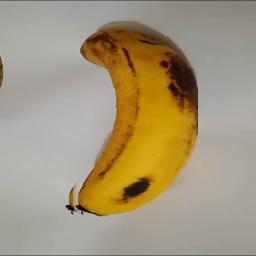Banana Semifresh: (64, 21, 198, 227)
